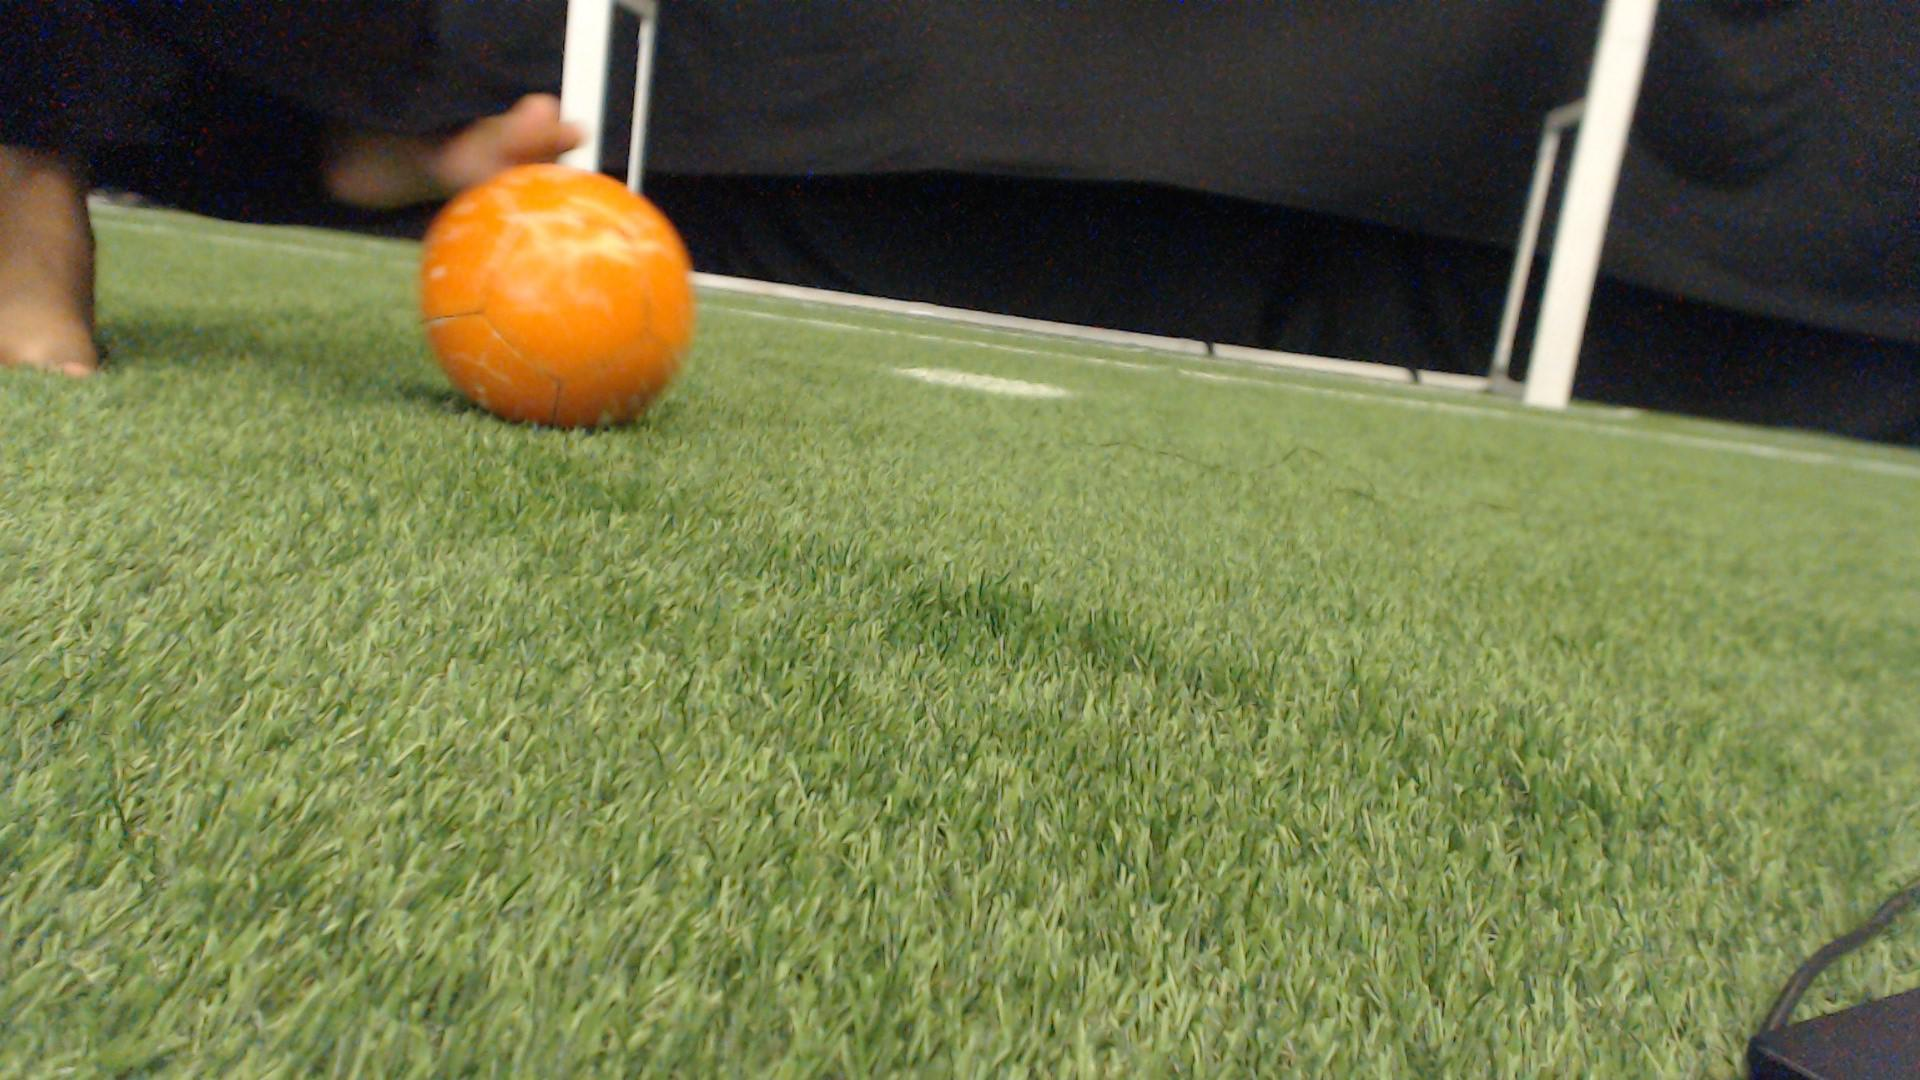bola: (404, 153, 699, 442)
